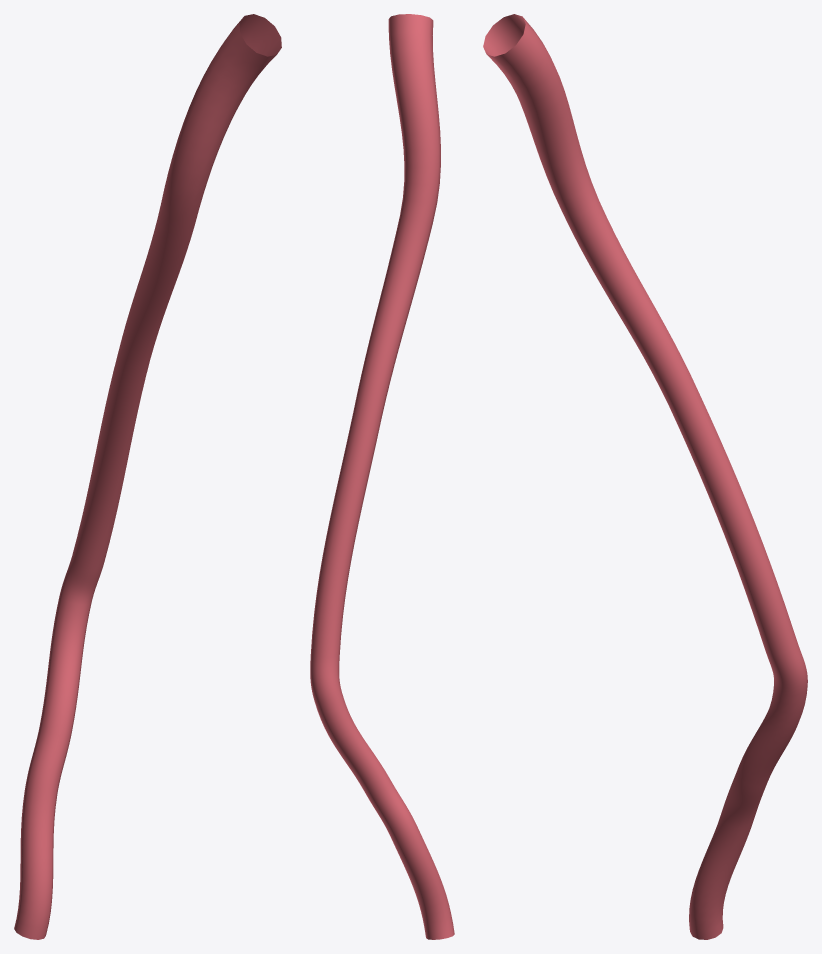
The picture shows the model from 3 angles, left to right: view 1: azimuth 30°, elevation 25°; view 2: azimuth 150°, elevation 25°; view 3: azimuth 270°, elevation 25°; orthographic projection. The views are drawn at different scales.
Visible parts, largest first — view 1: ZA_7878e6609d787c28; view 2: ZA_7878e6609d787c28; view 3: ZA_7878e6609d787c28.
Boxes of the visible parts, left/top/right/bottom form: ZA_7878e6609d787c28: left=14, top=14, right=281, bottom=939; ZA_7878e6609d787c28: left=310, top=14, right=454, bottom=939; ZA_7878e6609d787c28: left=483, top=14, right=807, bottom=939.
Bounding box in the file's own units: 0.0351 × 0.192 × 0.0577.
